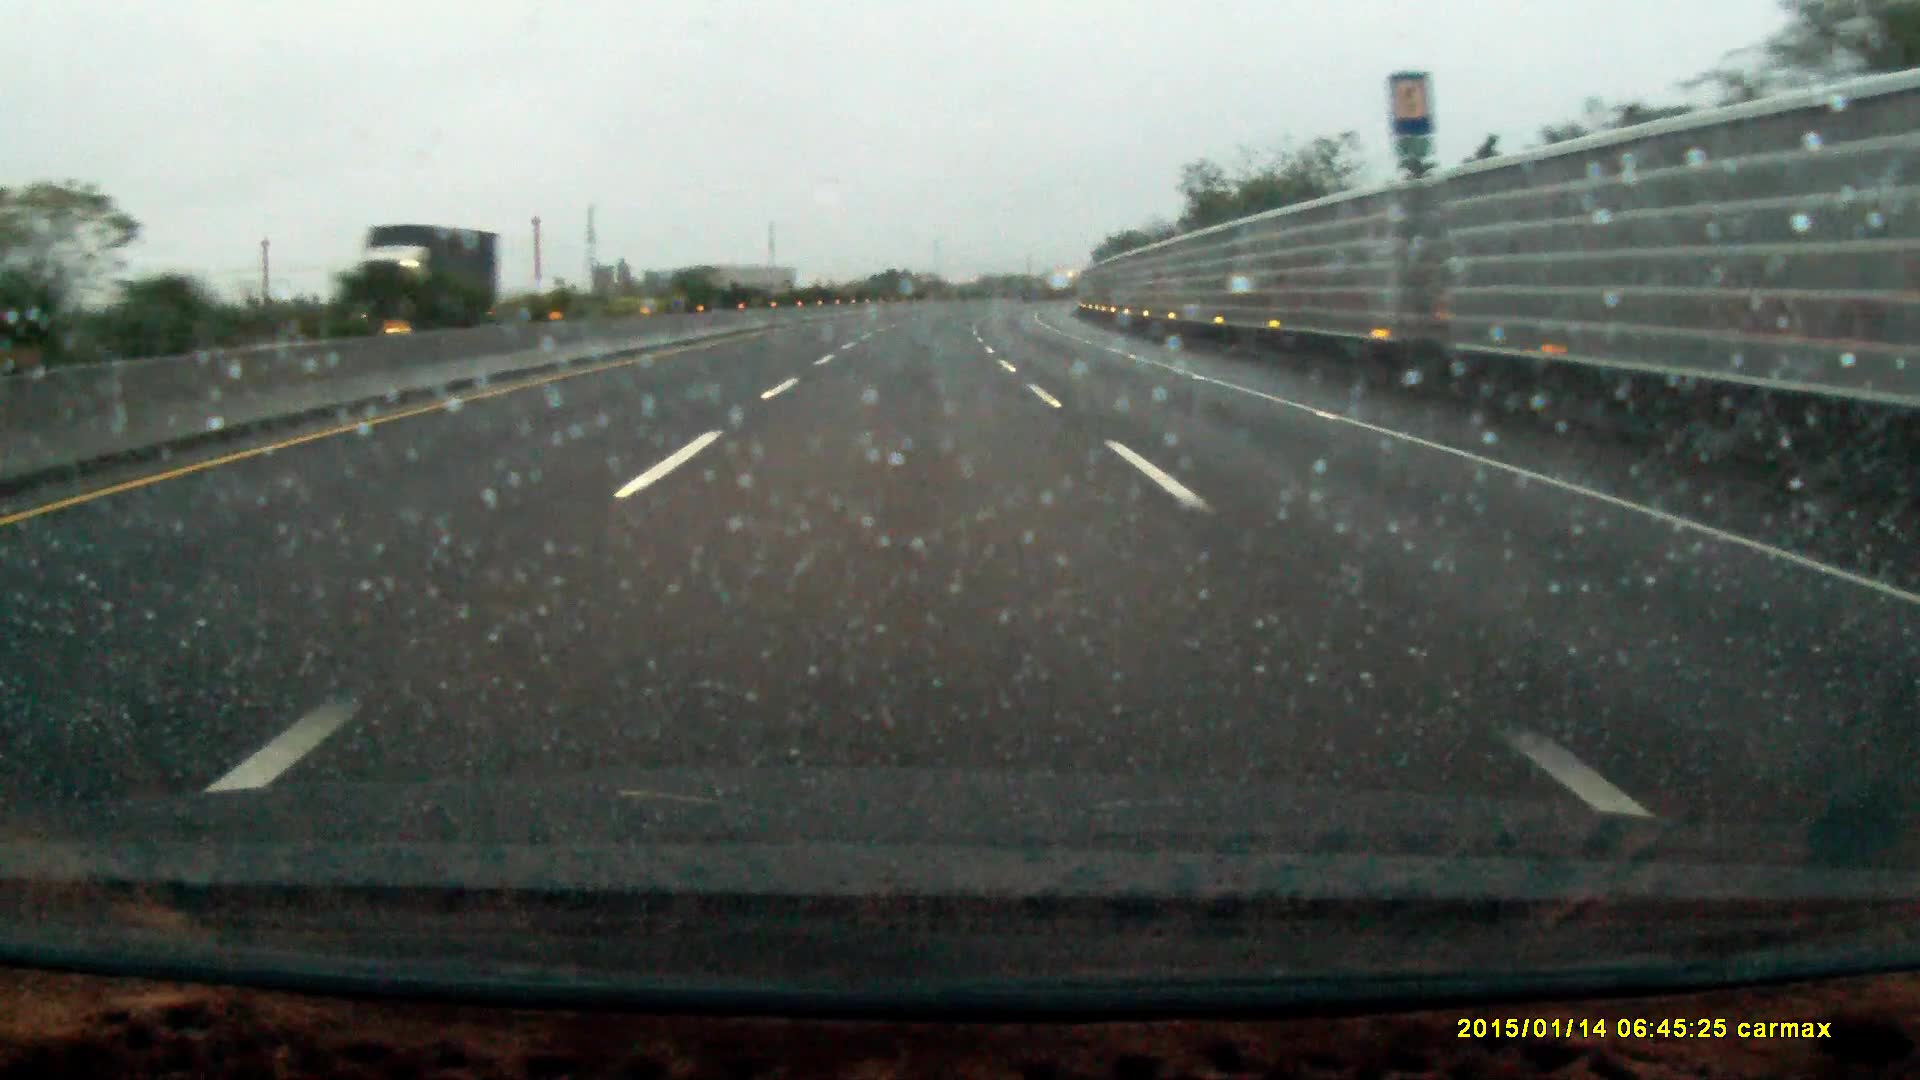vehicle: (345, 223, 505, 334)
